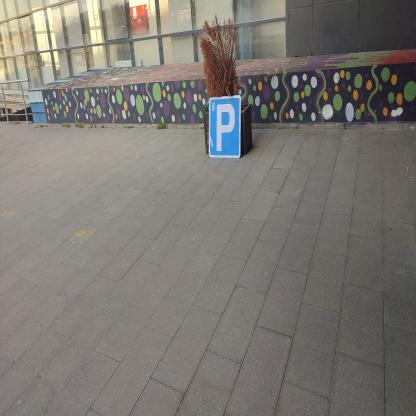Parking-Sign: (210, 97, 242, 159)
